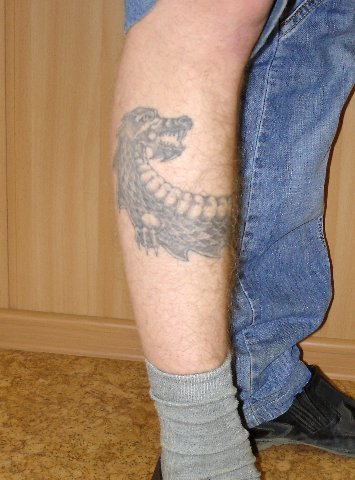tatu6_drakon: (100, 100, 237, 272)
